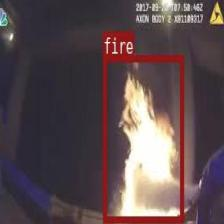fire: (102, 55, 183, 222)
